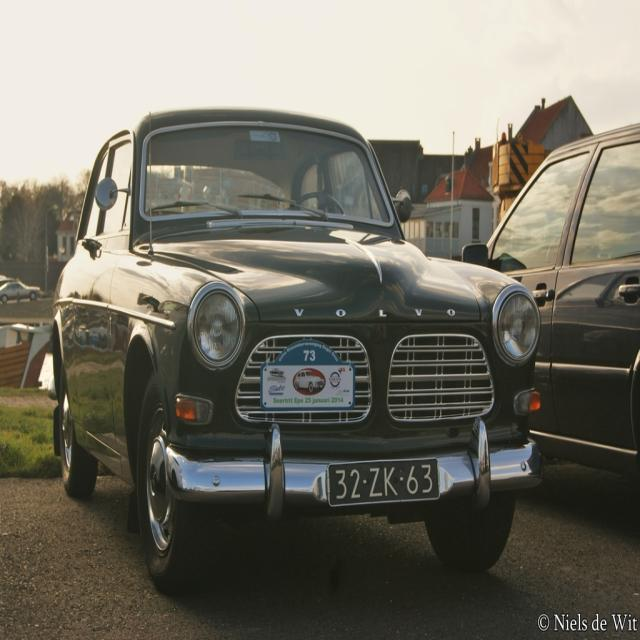car: (47, 100, 543, 598)
